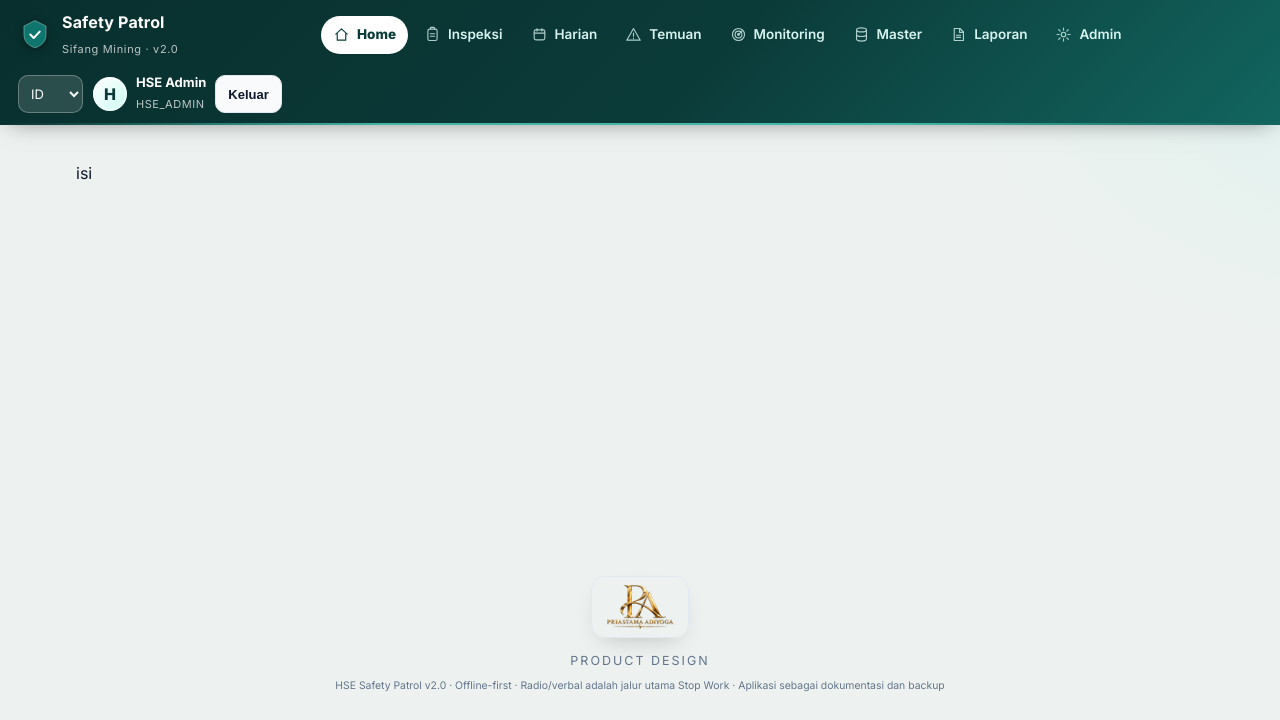
Scenario: Layout › logout kembali ke login
Expected: the text "HSE Admin" is shown, [136,74,206,90]
Step 1. Click the button "Keluar" → (249, 94), box [215,75,282,113]
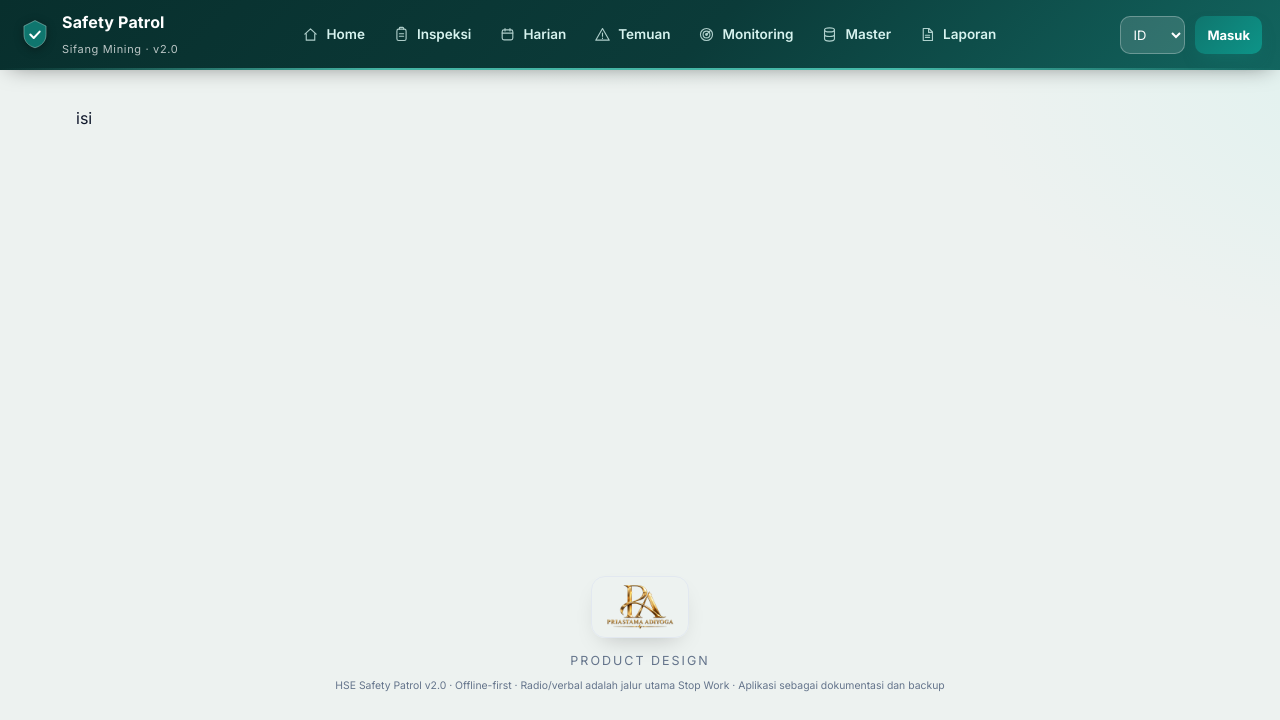
Result: the link "Masuk" is shown at [1195,16,1262,54]
